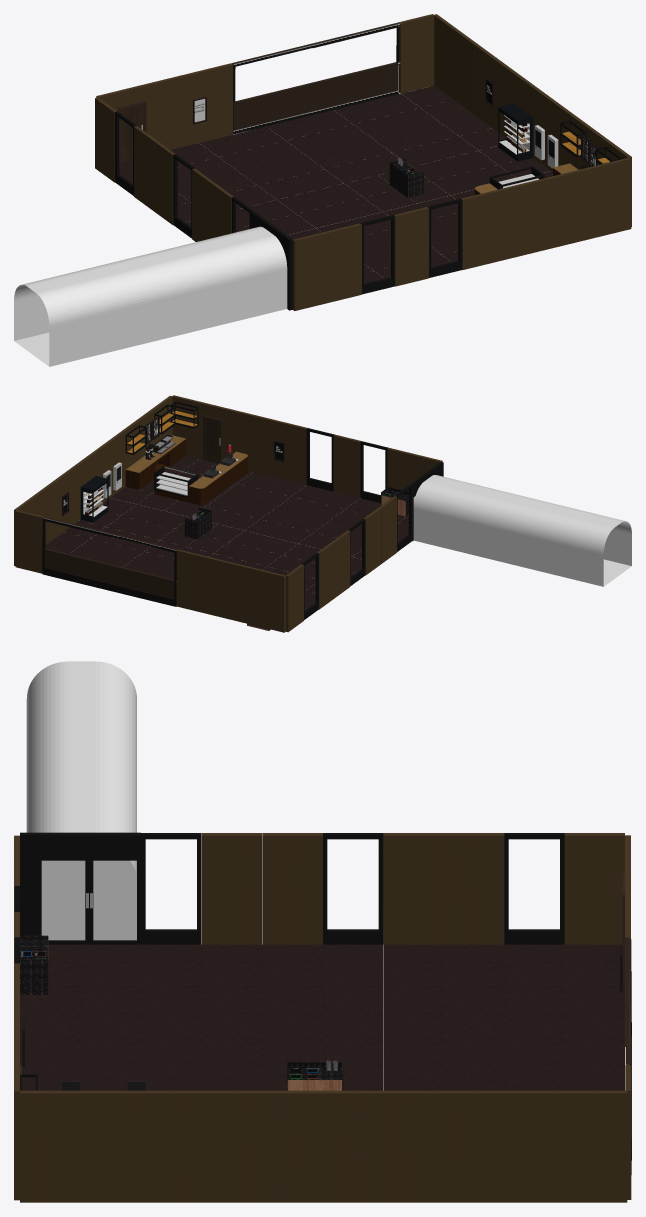
File: room.glb
3 views of the same model, one above another, from view 1: azimuth 30°, elevation 25°; view 2: azimuth 150°, elevation 25°; view 3: azimuth 270°, elevation 25° (orthographic). The views are drawn at different scales.
Parts seen in each view (by area): view 1: polySurface922_outerwall_0, group1pasted__pPlane180, Cube.002, polySurface76_fireextinguisher_0, Cube.001, default115_kiosk_0, default123_bin_0, Cube, polySurface76_fireextinguisher_0.002, polySurface76_fireextinguisher_0.004; view 2: polySurface922_outerwall_0, group1pasted__pPlane180, Cube.002, polySurface76_fireextinguisher_0, Cube.001, default115_kiosk_0, pCube235, polySurface76_fireextinguisher_0.004, cafe:pCube2, default123_bin_0, polySurface76_fireextinguisher_0.002, Cube; view 3: polySurface922_outerwall_0, group1pasted__pPlane180, Cube.002, polySurface76_fireextinguisher_0, default123_bin_0, polySurface76_fireextinguisher_0.002, Cube.
Boxes of the visible parts, bbox=[...] form: polySurface922_outerwall_0: bbox=[95, 14, 631, 310]; group1pasted__pPlane180: bbox=[119, 85, 552, 283]; Cube.002: bbox=[14, 226, 287, 366]; polySurface76_fireextinguisher_0: bbox=[115, 78, 622, 310]; Cube.001: bbox=[233, 61, 400, 133]; default115_kiosk_0: bbox=[498, 103, 558, 188]; default123_bin_0: bbox=[389, 158, 423, 197]; Cube: bbox=[231, 22, 400, 67]; polySurface76_fireextinguisher_0.002: bbox=[173, 154, 194, 238]; polySurface76_fireextinguisher_0.004: bbox=[233, 27, 399, 134]; polySurface922_outerwall_0: bbox=[14, 395, 442, 632]; group1pasted__pPlane180: bbox=[45, 456, 408, 610]; Cube.002: bbox=[413, 475, 631, 586]; polySurface76_fireextinguisher_0: bbox=[62, 401, 443, 630]; Cube.001: bbox=[44, 548, 176, 605]; default115_kiosk_0: bbox=[80, 444, 238, 522]; pCube235: bbox=[154, 451, 247, 505]; polySurface76_fireextinguisher_0.004: bbox=[42, 518, 176, 606]; cafe:pCube2: bbox=[125, 435, 186, 489]; default123_bin_0: bbox=[184, 487, 408, 539]; polySurface76_fireextinguisher_0.002: bbox=[348, 518, 365, 585]; Cube: bbox=[42, 517, 177, 552]; polySurface922_outerwall_0: bbox=[14, 833, 631, 1202]; group1pasted__pPlane180: bbox=[20, 944, 624, 1090]; Cube.002: bbox=[26, 661, 136, 940]; polySurface76_fireextinguisher_0: bbox=[15, 832, 624, 1090]; default123_bin_0: bbox=[20, 935, 343, 1090]; polySurface76_fireextinguisher_0.002: bbox=[323, 833, 383, 944]; Cube: bbox=[625, 938, 630, 1065].
Bounding box in the file's own units: 4.14 × 0.5028 × 2.45.
12 materials, 11 textured.
